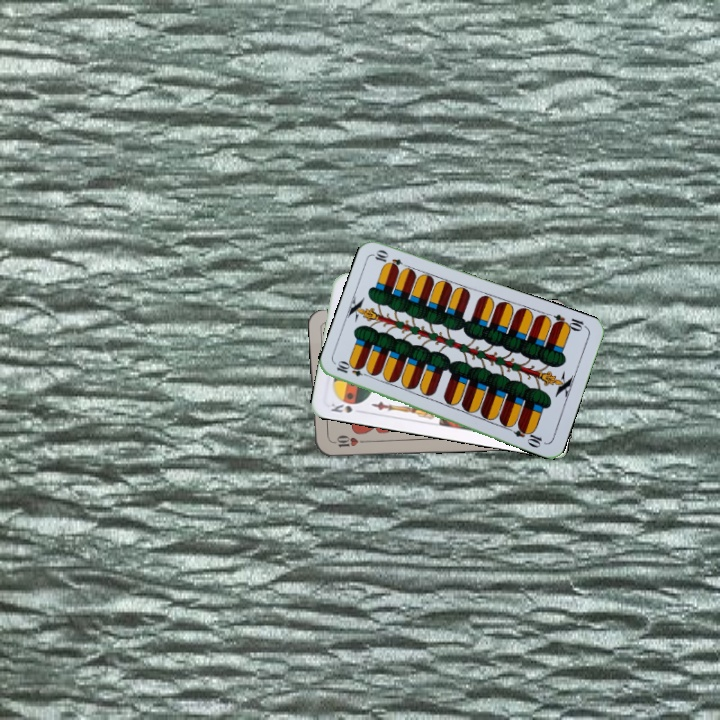E10: (549, 310, 589, 334), (333, 359, 373, 380)
H10: (328, 433, 369, 450)
SK: (327, 399, 355, 416)
